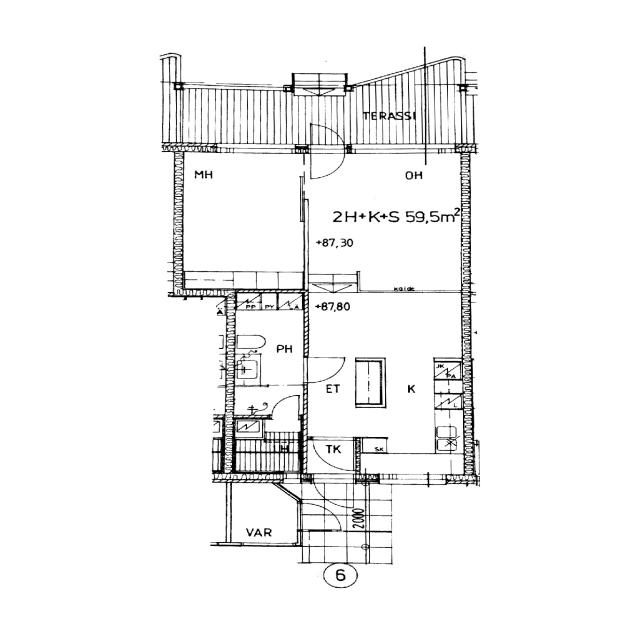door: (307, 123, 348, 179), (311, 478, 352, 512), (299, 355, 346, 384), (308, 152, 346, 180), (270, 394, 304, 418)
window: (345, 142, 433, 156), (218, 143, 300, 156), (378, 472, 432, 486)
zone: (301, 151, 468, 359), (302, 358, 471, 474), (177, 148, 305, 288), (303, 290, 469, 358), (230, 289, 306, 391), (226, 481, 300, 546), (227, 417, 301, 471), (231, 387, 305, 418), (309, 435, 357, 475)
